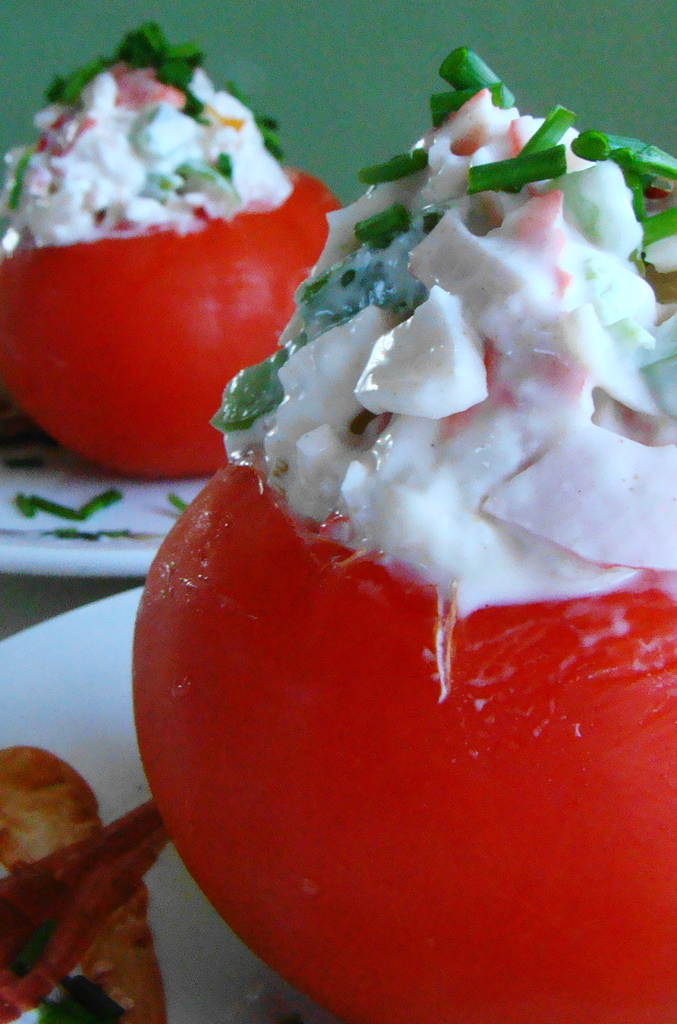Tomato: (131, 462, 676, 1022), (0, 17, 341, 484)
